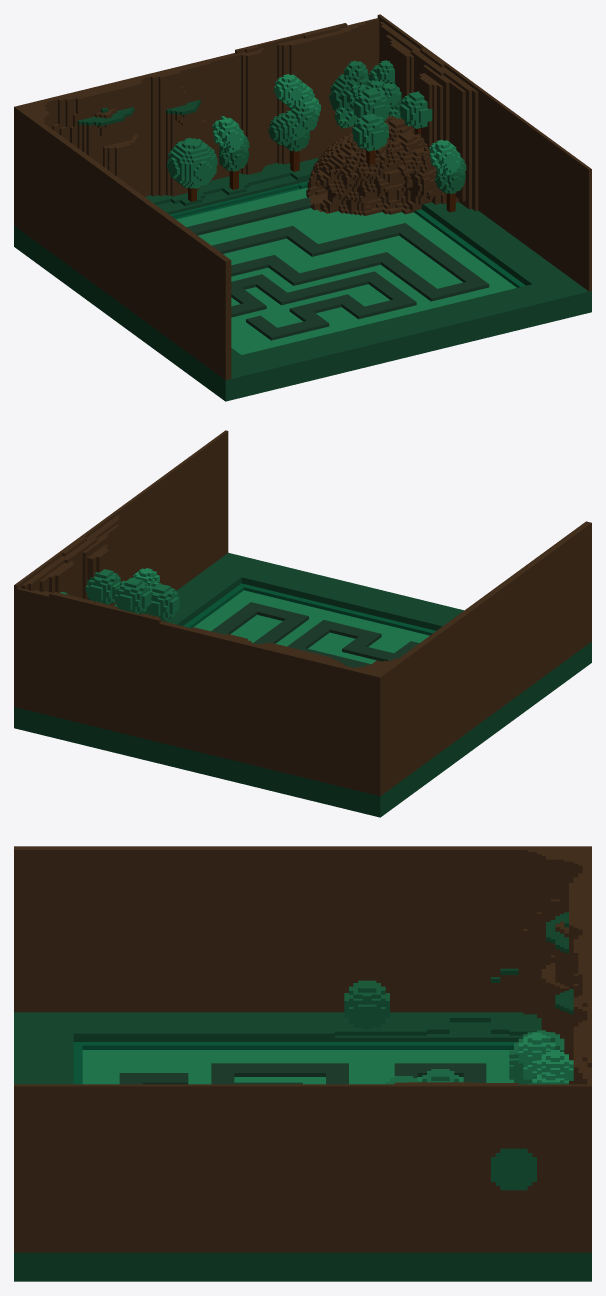
Rendered from landscapetest.obj.
The picture shows the model from 3 angles, top to bottom: view 1: azimuth 30°, elevation 25°; view 2: azimuth 150°, elevation 25°; view 3: azimuth 270°, elevation 25°; orthographic projection. The views are drawn at different scales.
Bounding box in the file's own units: 126 × 47 × 126.
Materials: 1 (1 with a texture image).
